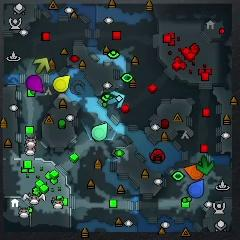p1: (188, 179, 205, 198)
p2: (92, 123, 107, 141)
p3: (26, 75, 44, 92)
p4: (53, 75, 71, 93)
p5: (184, 164, 204, 180)
x2: (33, 57, 50, 73)
x3: (107, 91, 125, 108)
x4: (196, 156, 213, 175)
